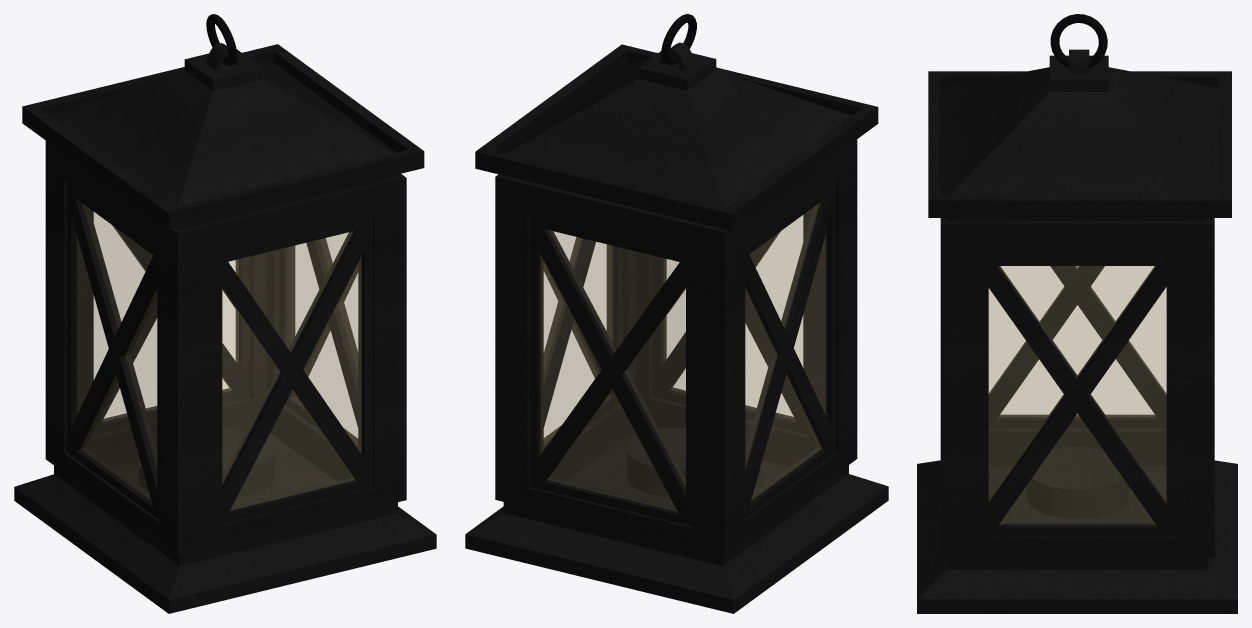
Rendered from candle_lantern.glb.
The picture shows the model from 3 angles, left to right: view 1: azimuth 30°, elevation 25°; view 2: azimuth 150°, elevation 25°; view 3: azimuth 270°, elevation 25°; orthographic projection. The views are drawn at different scales.
Visible parts, largest first — view 1: Material2, Material2.001, Material2.016; view 2: Material2, Material2.001, Material2.016; view 3: Material2, Material2.001, Material2.016.
Boxes of the visible parts, x1,y1,x2,y2 form: Material2: (14,43,436,613); Material2.001: (77,204,361,510); Material2.016: (206,14,237,66); Material2: (465,42,888,613); Material2.001: (541,203,825,511); Material2.016: (661,14,696,65); Material2: (917,49,1237,613); Material2.001: (989,266,1166,523); Material2.016: (1050,14,1107,67).
Size of the model in its own units: 98.43 by 179 by 98.43.
Materials: 4 (3 with a texture image).
